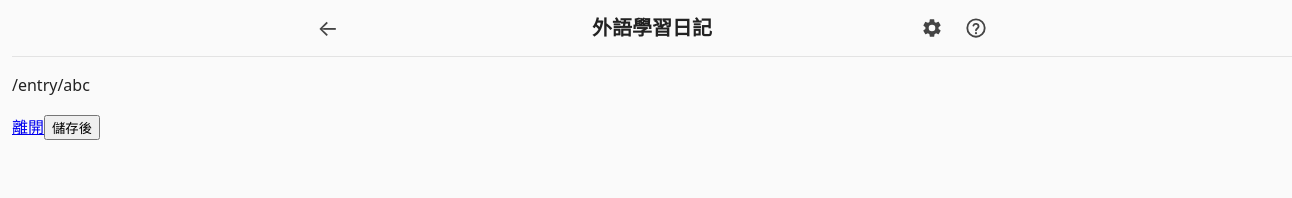
Test: TopBar › uses history when history.state.idx is above 0
Click the button named "返回": coordinates (328, 28) [308,8,348,48]
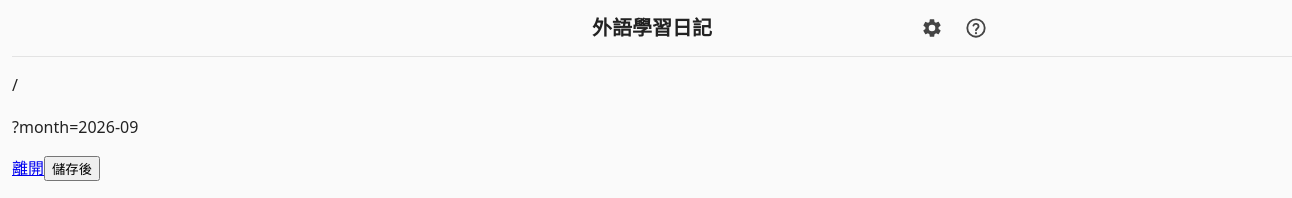
Result: the text with test id "search" reads "?month=2026-09" at [12,116,138,138]
